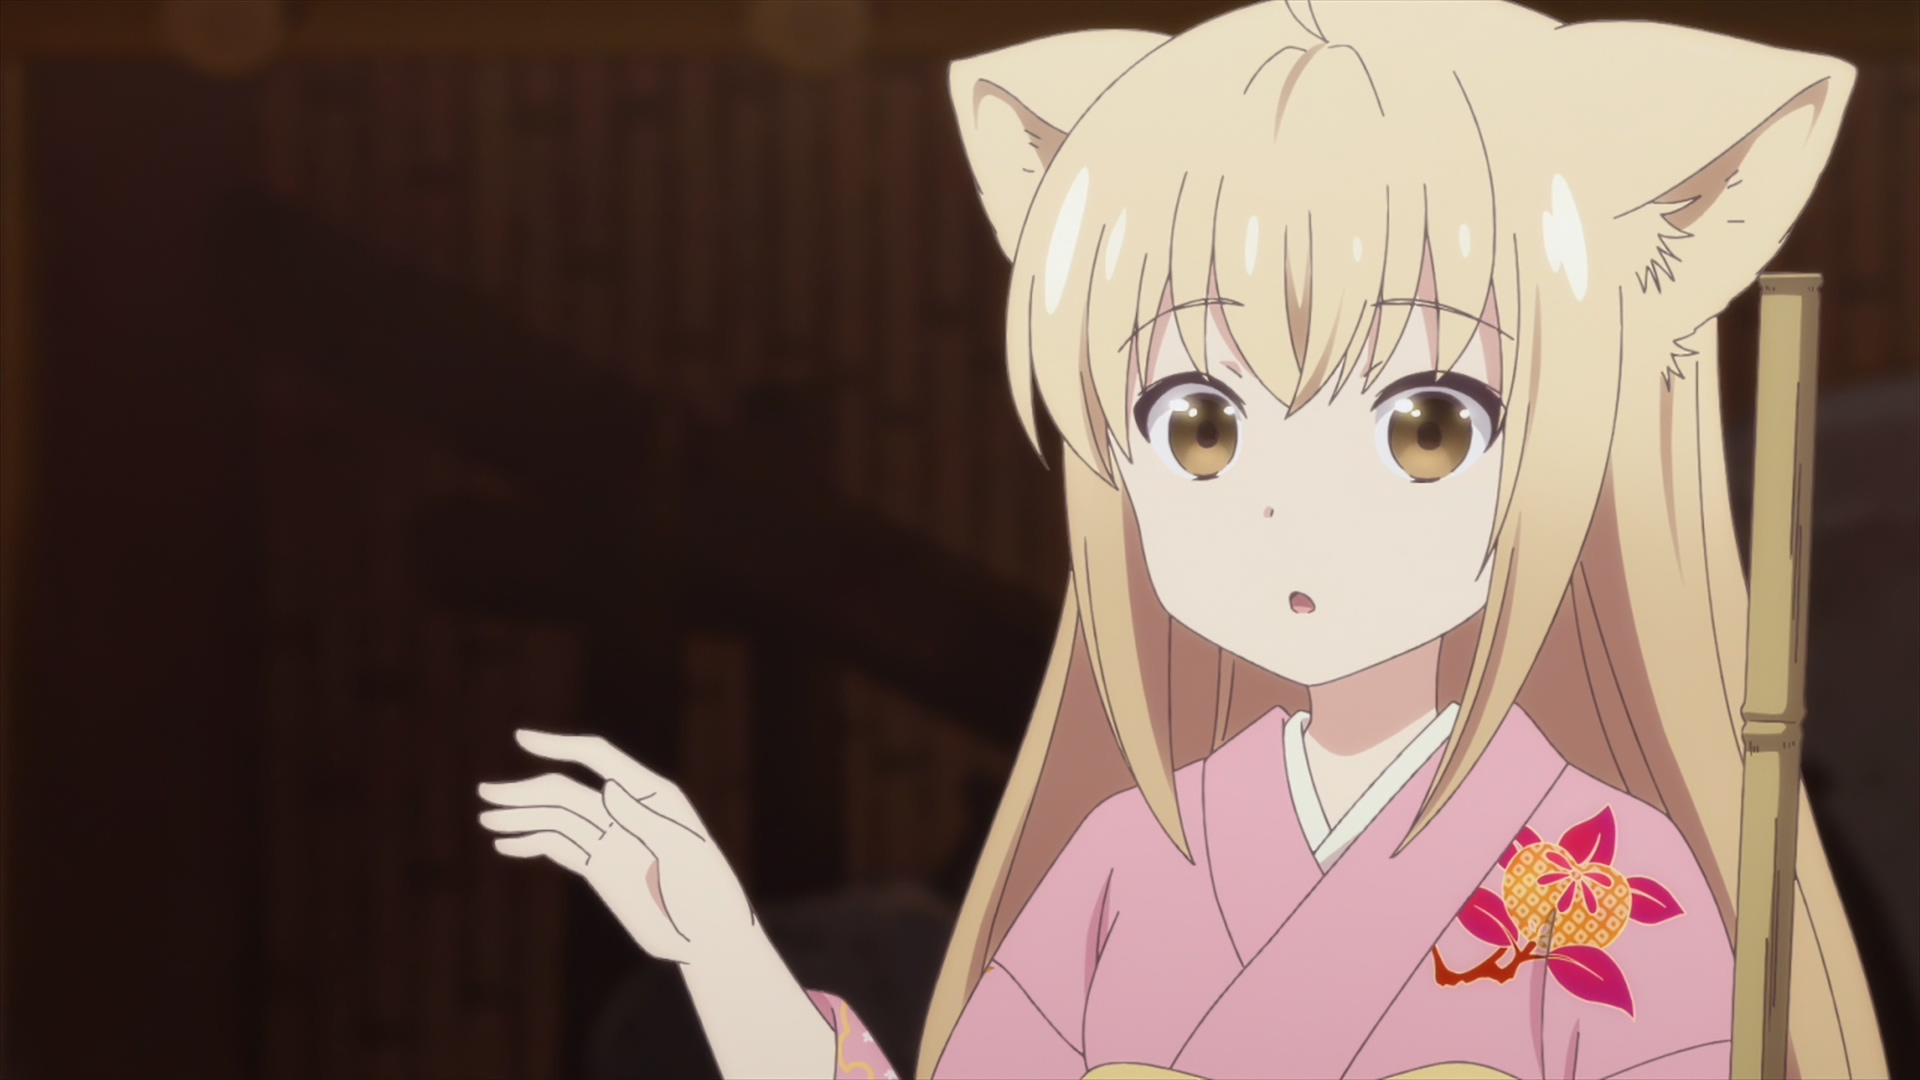柚: (475, 1, 1890, 1080)
